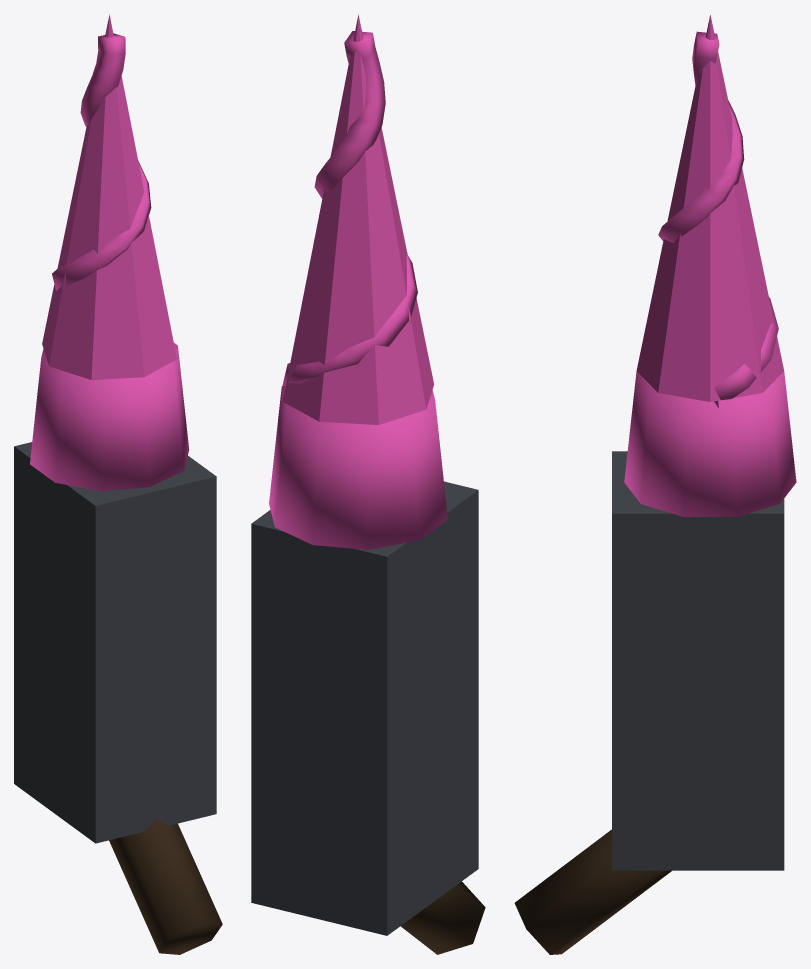
The model's file is orichalcum_drill.glb.
3 renders of one model, left to right at view 1: azimuth 30°, elevation 25°; view 2: azimuth 150°, elevation 25°; view 3: azimuth 270°, elevation 25°, orthographic. The views are drawn at different scales.
Parts seen in each view (by area): view 1: orichalcum_drill_v0; view 2: orichalcum_drill_v0; view 3: orichalcum_drill_v0.
Boxes of the visible parts, bbox=[...] form: orichalcum_drill_v0: bbox=[14, 14, 222, 954]; orichalcum_drill_v0: bbox=[251, 14, 485, 954]; orichalcum_drill_v0: bbox=[514, 15, 796, 954].
Size of the model in its own units: 0.1331 by 0.843 by 0.2292.
